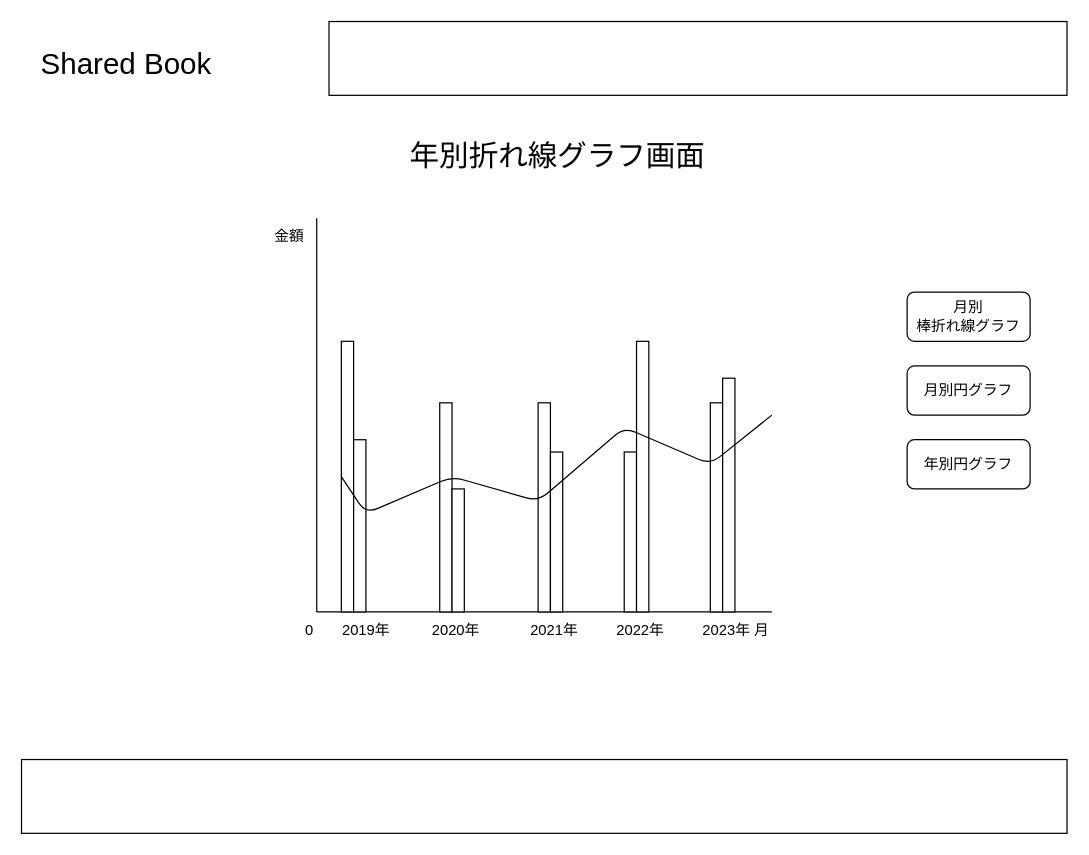
This 1089x855 diagram has some shape labels left out. The shapes that lost their labels are listed below. From the top down, each one's centre as x and y in pixels, then its label:
the point at 697,57: 収入支出一覧 項目一覧 カレンダー一覧 月別グラフ 割勘一覧 アカウント ログアウト
the point at 543,795: @ 2024 Shared Book ALL RIGHTS RESERVED.
